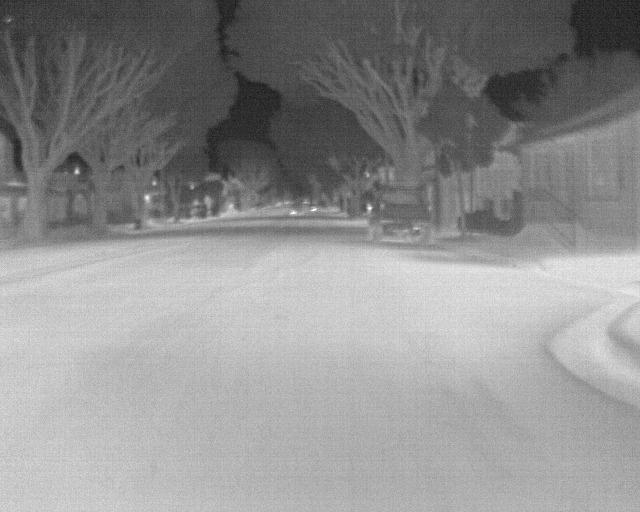car: (367, 186, 431, 246)
